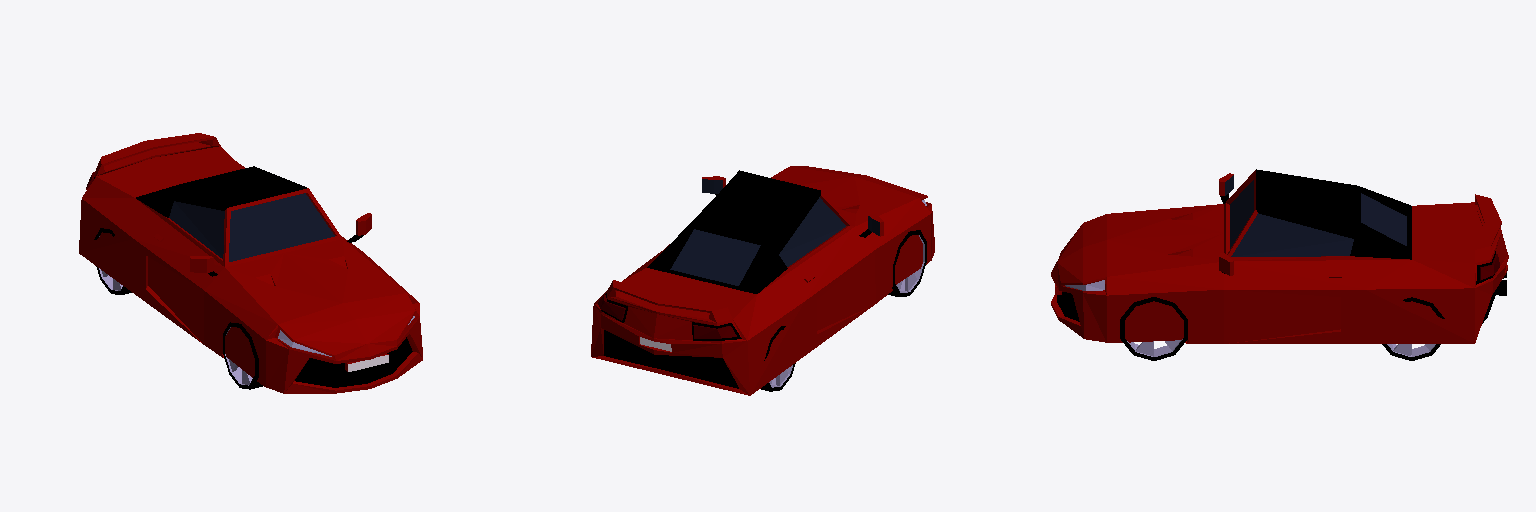
Rendered from convertible.obj.
The picture shows the model from 3 angles: view 1: azimuth 30°, elevation 25°; view 2: azimuth 150°, elevation 25°; view 3: azimuth 270°, elevation 25°; orthographic projection.
Parts seen in each view (by area): view 1: convertible; view 2: convertible; view 3: convertible.
Part boxes in pixels (x1,y1,x2,y2): convertible: (79,133,422,393); convertible: (591,166,934,395); convertible: (1051,169,1508,360).
Bounding box in the file's own units: 79.02 × 55.27 × 172.